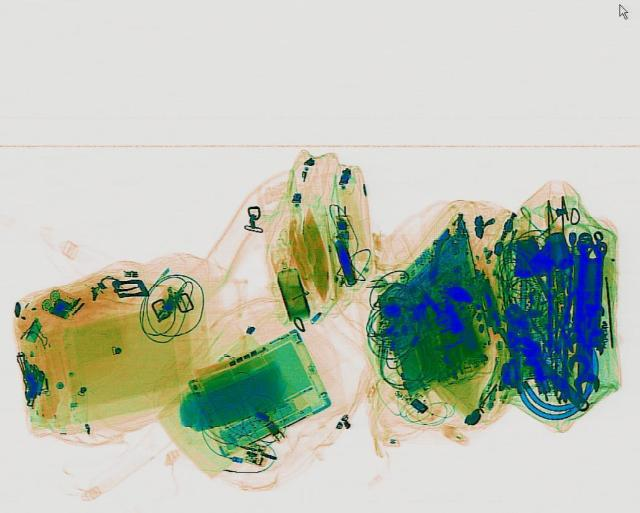Wrench: (571, 335, 601, 392), (565, 311, 591, 372)
